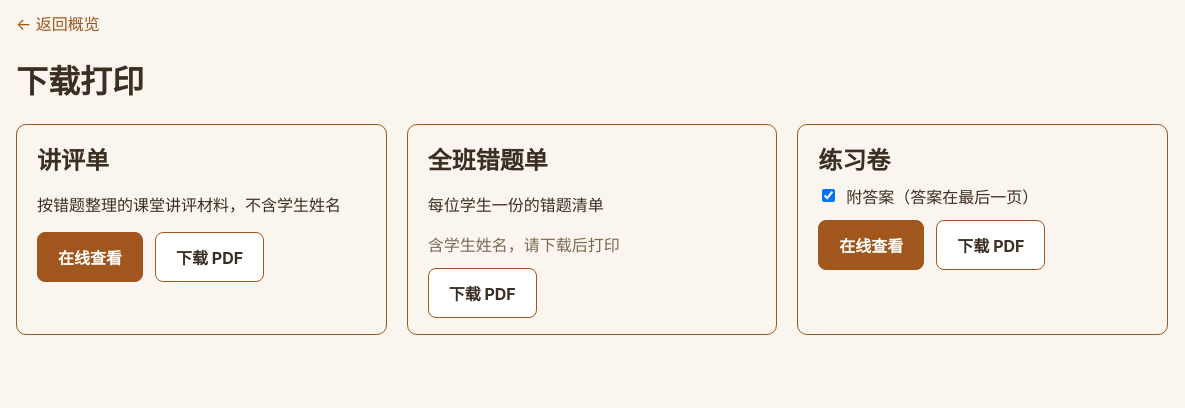
Test case: Downloads online view › a failed export closes the waiting tab
Click the button "在线查看" below "按错题整理的课堂讲评材料，不含学生姓名" at (90, 257), box [37, 232, 143, 282]
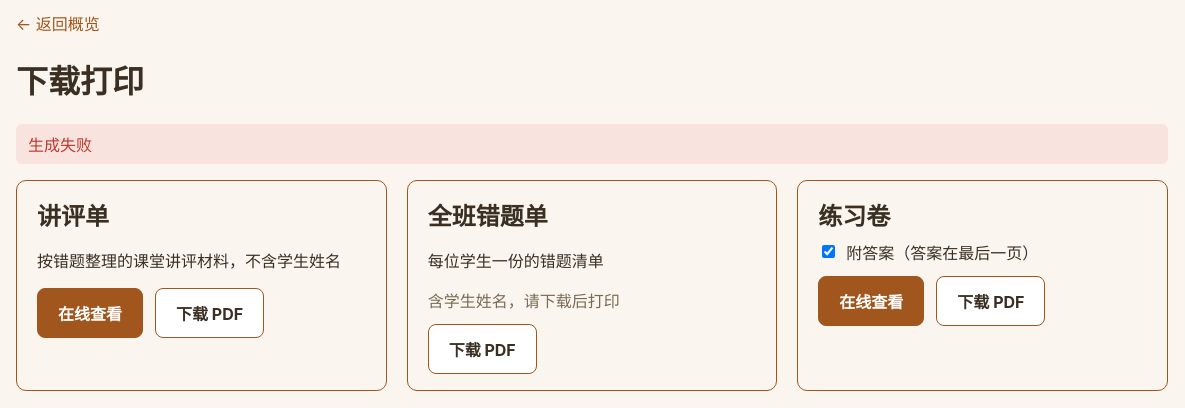
expect the text "生成失败" is shown: met, box [16, 124, 1168, 164]
